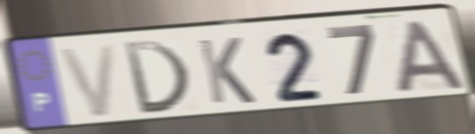2: (259, 27, 330, 108)
7: (322, 21, 381, 99)
A: (394, 18, 469, 95)
D: (120, 38, 194, 117)
K: (195, 35, 259, 107)
V: (55, 42, 119, 121)
